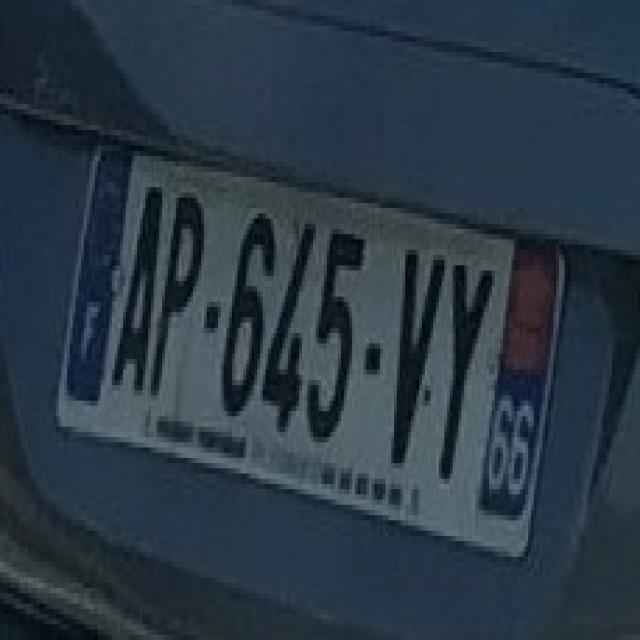EU: (57, 134, 575, 562)
France: (59, 137, 136, 408)
